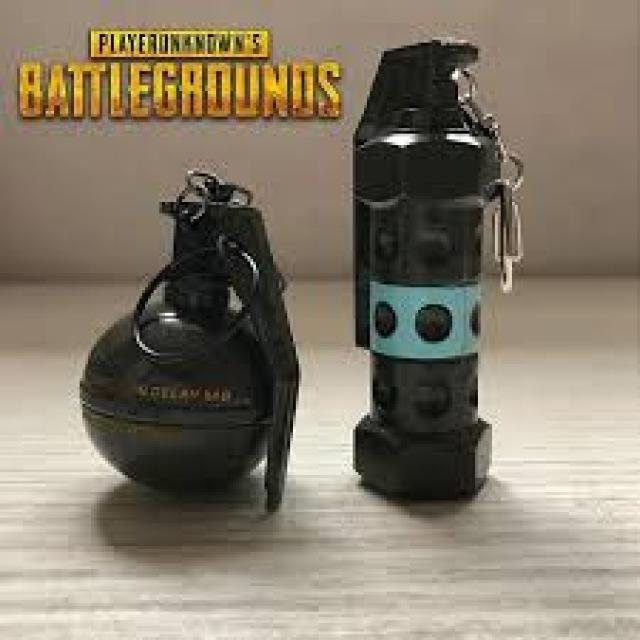grenade: (343, 23, 532, 510), (73, 161, 304, 515)
